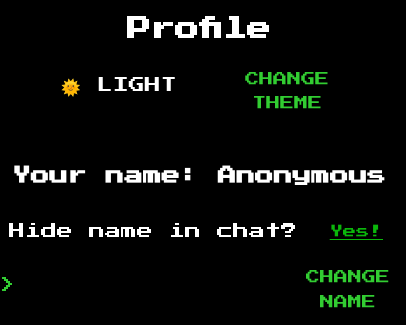
Test: Profile › Toggle profile theme
Click the button "Change theme" at point(287, 91), box [237, 61, 337, 122]
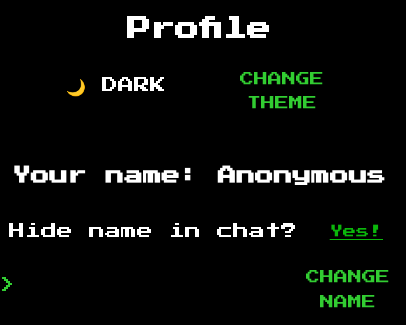
Expected: the text "🌙 DARK" is shown, [66, 77, 166, 93]
